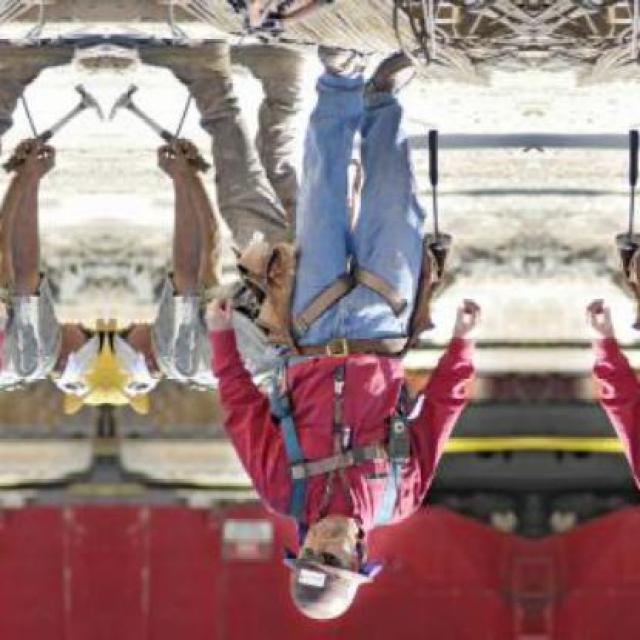safetyhelmet: (276, 526, 383, 618)
